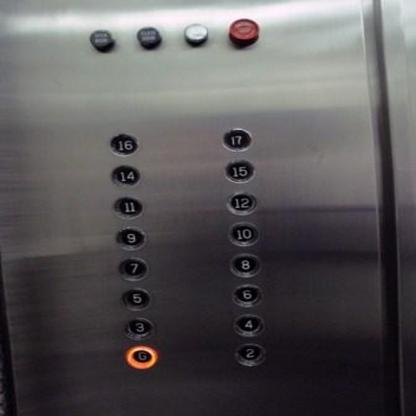10: (226, 221, 261, 246)
11: (110, 194, 145, 220)
12: (224, 190, 258, 216)
14: (108, 162, 142, 188)
15: (221, 156, 256, 183)
16: (106, 130, 140, 156)
17: (218, 127, 253, 152)
2: (232, 341, 266, 367)
3: (119, 316, 155, 340)
4: (230, 312, 264, 336)
5: (118, 286, 153, 311)
6: (228, 283, 262, 307)
7: (115, 256, 149, 282)
8: (227, 253, 261, 277)
9: (112, 225, 146, 251)
G: (125, 344, 158, 368)
text_blur: (226, 18, 260, 44), (181, 23, 209, 47), (88, 28, 114, 53), (135, 26, 162, 49)
